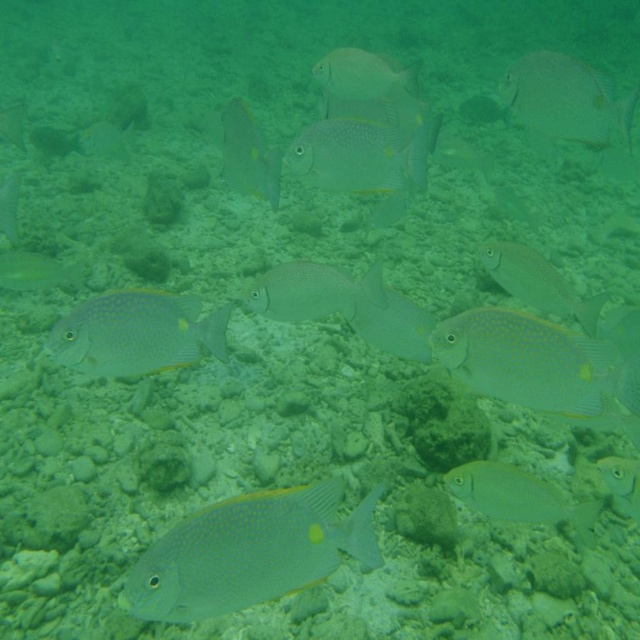Fish: (0, 45, 640, 623)
